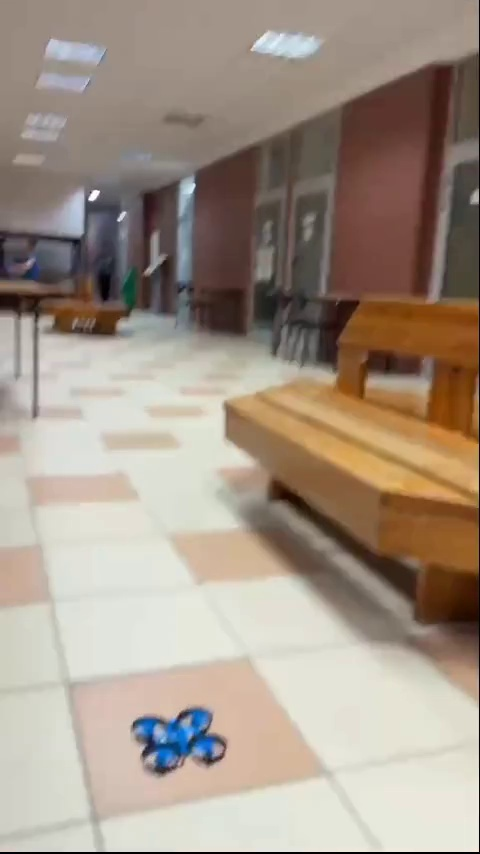drone: (134, 709, 230, 770)
no vest: (8, 232, 45, 297), (86, 237, 116, 300)
